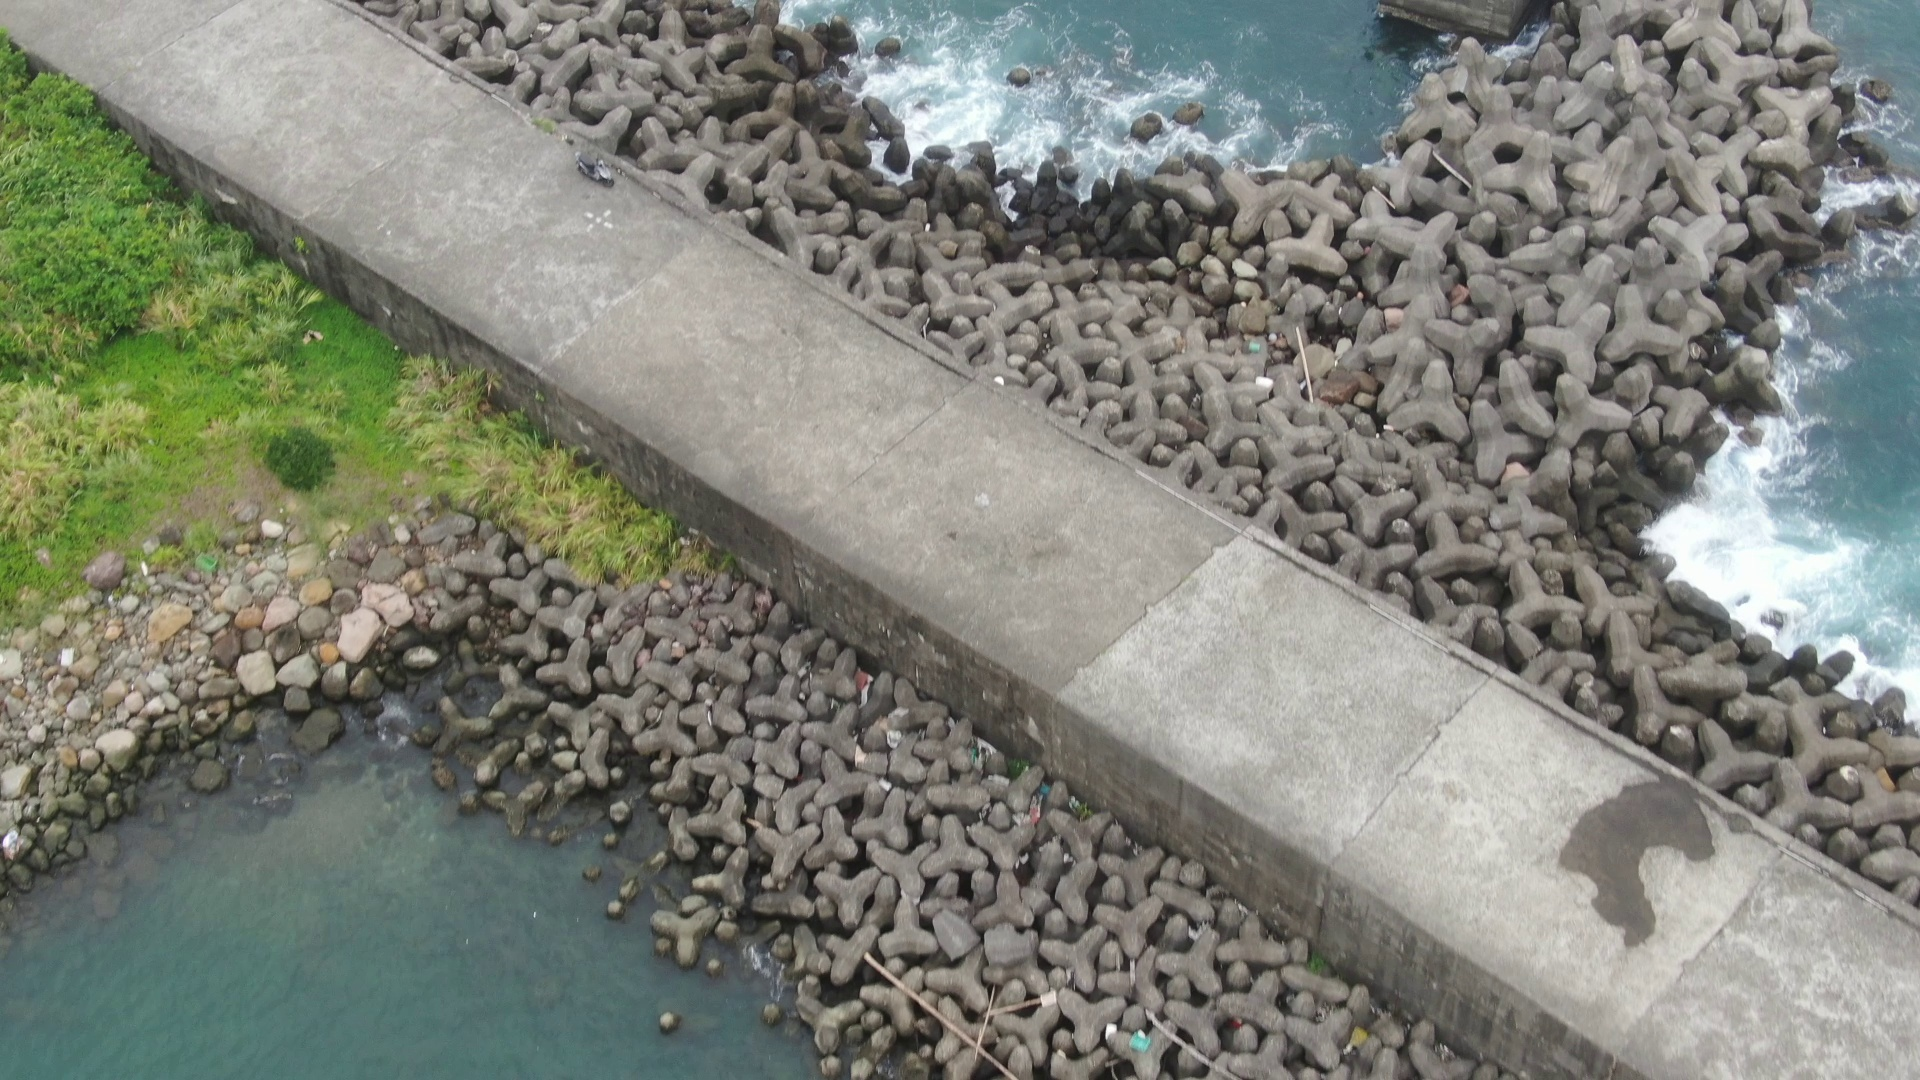garbage: (1127, 1015, 1162, 1071)
